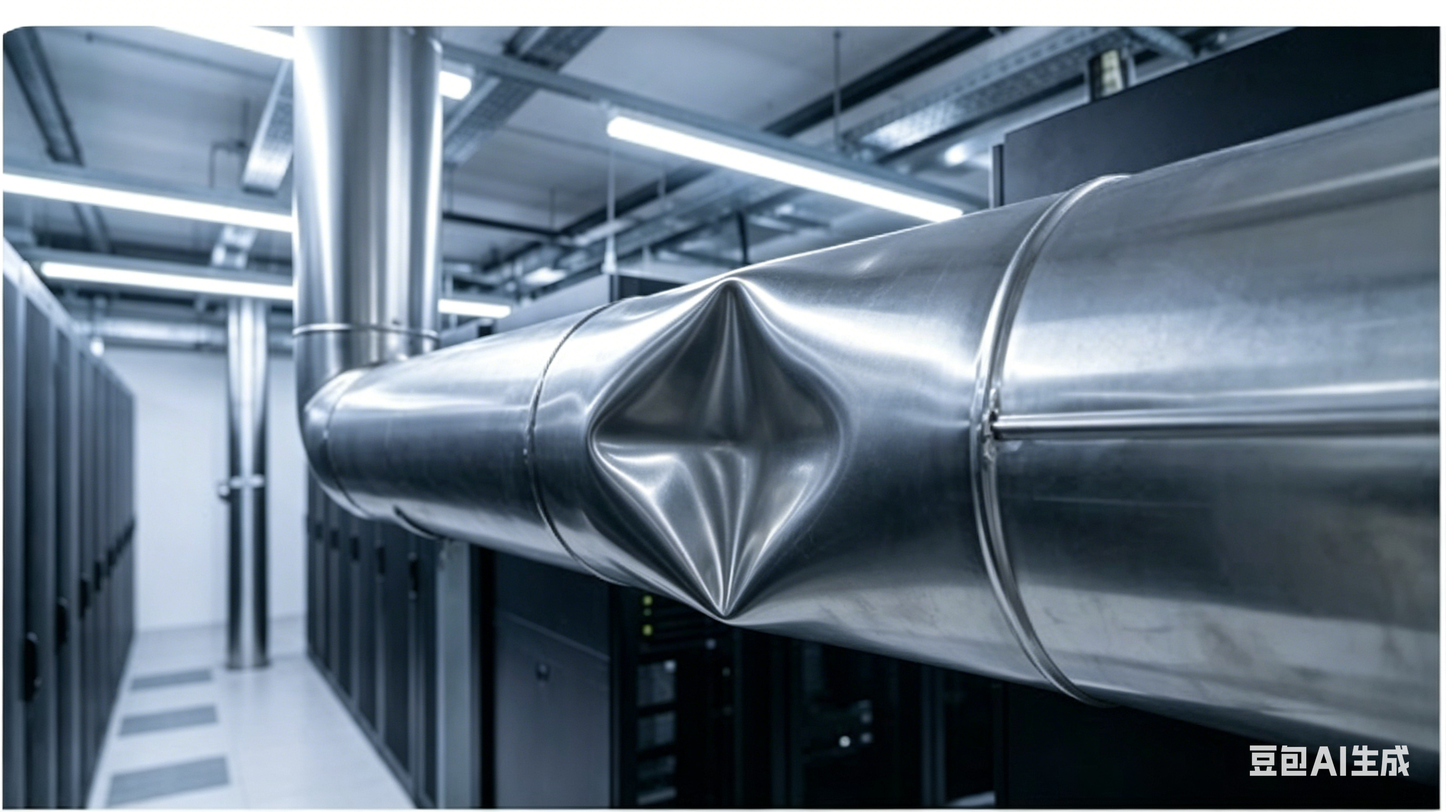Leakage: (570, 258, 883, 626)
